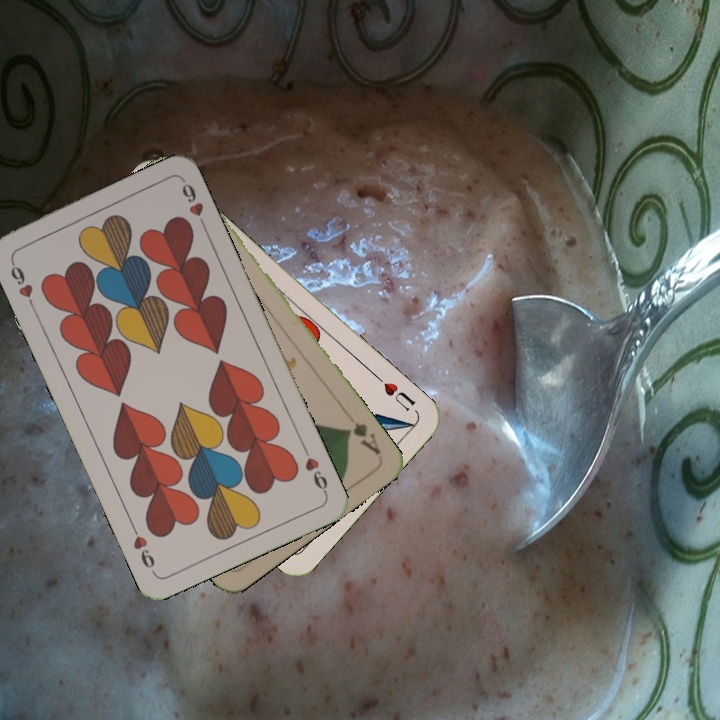GA: (341, 418, 384, 458)
H9: (298, 442, 331, 497), (6, 255, 37, 312)
HU: (371, 371, 418, 414)
